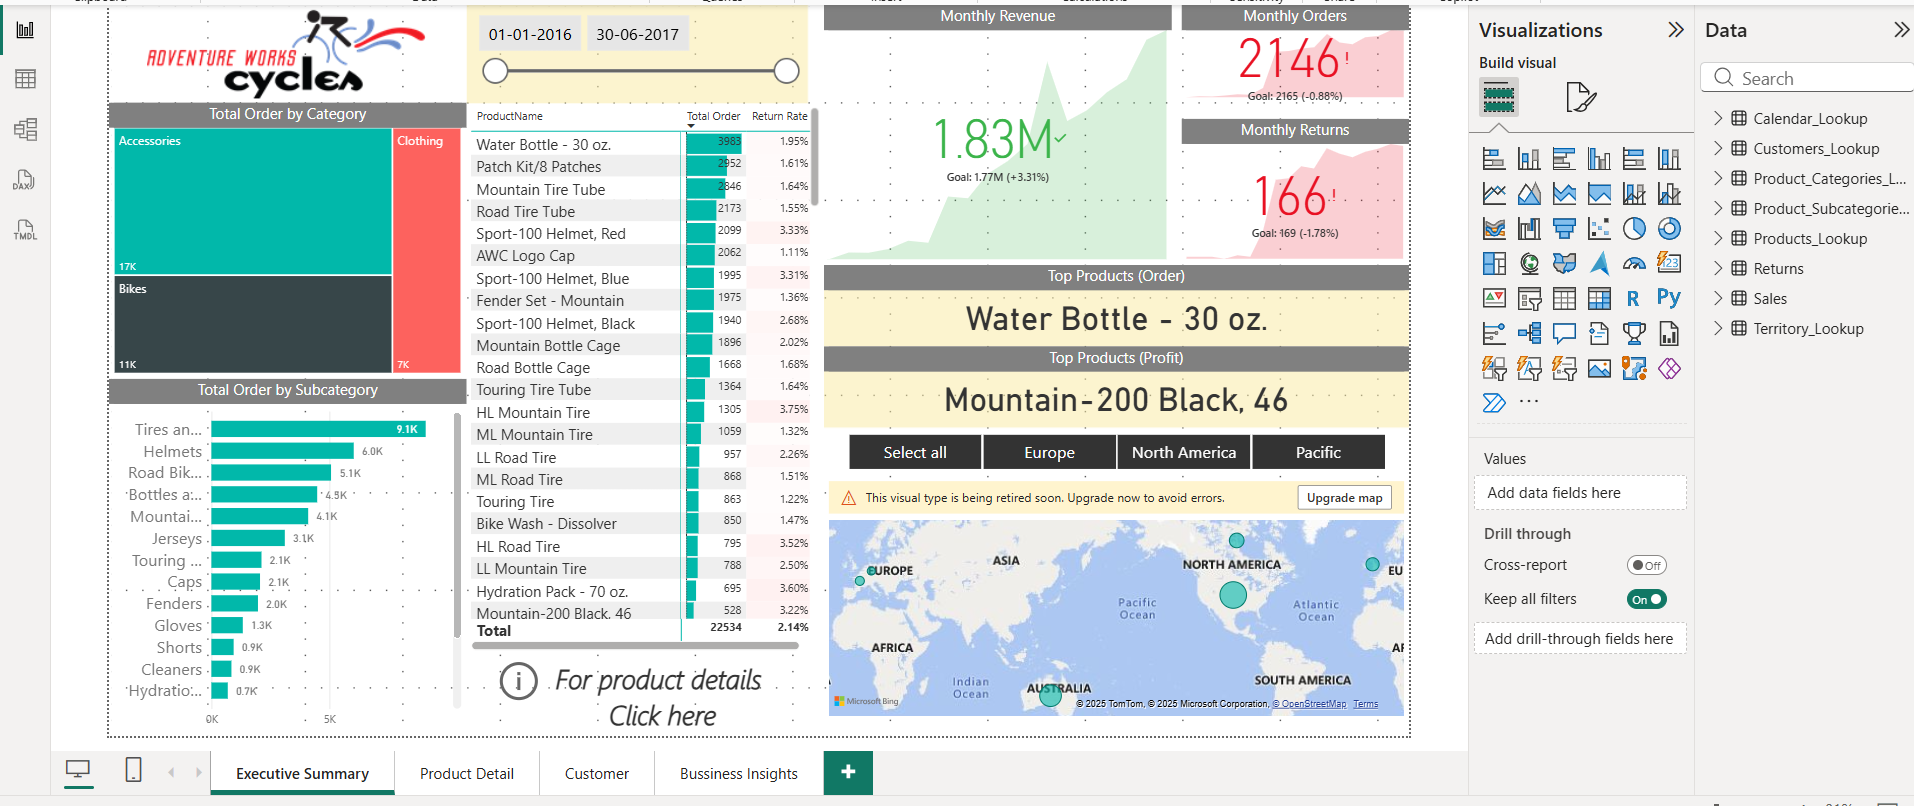

Layout of this report page (visuals, bound fields, positions):
{"tool":"powerbi","page":{"name":"Executive Summary","canvas":[1280,720],"ordinal":0},"visuals":[{"type":"image","box":[0,0,352.2,96.6],"z":0},{"type":"treemap","title":"Total Order by Category","fields":{"Group":["Product_Categories_Lookup.CategoryName"],"Values":["Sales.Total Order"]},"box":[0,96,352,272],"z":1000},{"type":"barChart","title":"Total Order by Subcategory","fields":{"Y":["Sales.Total Order"],"Category":["Product_Subcategories_Lookup.SubcategoryName"]},"box":[0,368,352,352],"z":2000},{"type":"pivotTable","fields":{"Rows":["Products_Lookup.ProductName"],"Values":["Sales.Total Order","Returns.Return Rate"]},"box":[352,96,352,544],"z":3000},{"type":"slicer","fields":{"Values":["Calendar_Lookup.Date"]},"box":[352.2,0,336.3,96.6],"z":4000},{"type":"kpi","title":"Monthly Revenue","fields":{"Indicator":["Sales.Total Revenue"],"TrendLine":["Calendar_Lookup.Start of Month"],"Goal":["Sales.Prev Month Revenue"]},"box":[704.4,0,342.4,255.6],"z":5000},{"type":"kpi","title":"Monthly Orders","fields":{"TrendLine":["Calendar_Lookup.Start of Month"],"Indicator":["Sales.Total Order"],"Goal":["Sales.Prev Month Orders"]},"box":[1056,0,224,96],"z":6000},{"type":"kpi","title":"Monthly Returns","fields":{"TrendLine":["Calendar_Lookup.Start of Month"],"Indicator":["Returns.Total Returns"],"Goal":["Returns.Prev Month Returns"]},"box":[1056.5,112.5,223.8,143.1],"z":7000},{"type":"card","title":"Top Products (Order)","fields":{"Values":["Min(Products_Lookup.ProductName)"]},"box":[704,256,576,80],"z":8000},{"type":"card","title":"Top Products (Profit)","fields":{"Values":["Min(Products_Lookup.ProductName)"]},"box":[704,336,576,80],"z":9000},{"type":"map","fields":{"Size":["Sales.Total Order"],"Category":["Territory_Lookup.Country"]},"box":[704.4,463.5,576,240.9],"z":10000},{"type":"slicer","fields":{"Values":["Territory_Lookup.Continent"]},"box":[703.1,415.8,577.2,47.7],"z":11000},{"type":"textbox","box":[401.1,639.5,287.4,80.7],"z":12000},{"type":"actionButton","box":[379.1,640.8,64.8,48.9],"z":13000}]}

Visuals, with their boxes on the page's 1280x720 design canvas (x1, y1, x2, y2). These are canvas units, not pixel positions in the 1914x806 screenshot, which may show the page scaled, cropped or inside an application window:
image: 0/0/352/97
"Total Order by Category" treemap: 0/96/352/368
"Total Order by Subcategory" barChart: 0/368/352/720
pivotTable - Products_Lookup.ProductName x Sales.Total Order: 352/96/704/640
slicer - Calendar_Lookup.Date: 352/0/688/97
"Monthly Revenue" kpi: 704/0/1047/256
"Monthly Orders" kpi: 1056/0/1280/96
"Monthly Returns" kpi: 1056/112/1280/256
"Top Products (Order)" card: 704/256/1280/336
"Top Products (Profit)" card: 704/336/1280/416
map - Sales.Total Order x Territory_Lookup.Country: 704/464/1280/704
slicer - Territory_Lookup.Continent: 703/416/1280/464
textbox: 401/640/688/720
actionButton: 379/641/444/690
